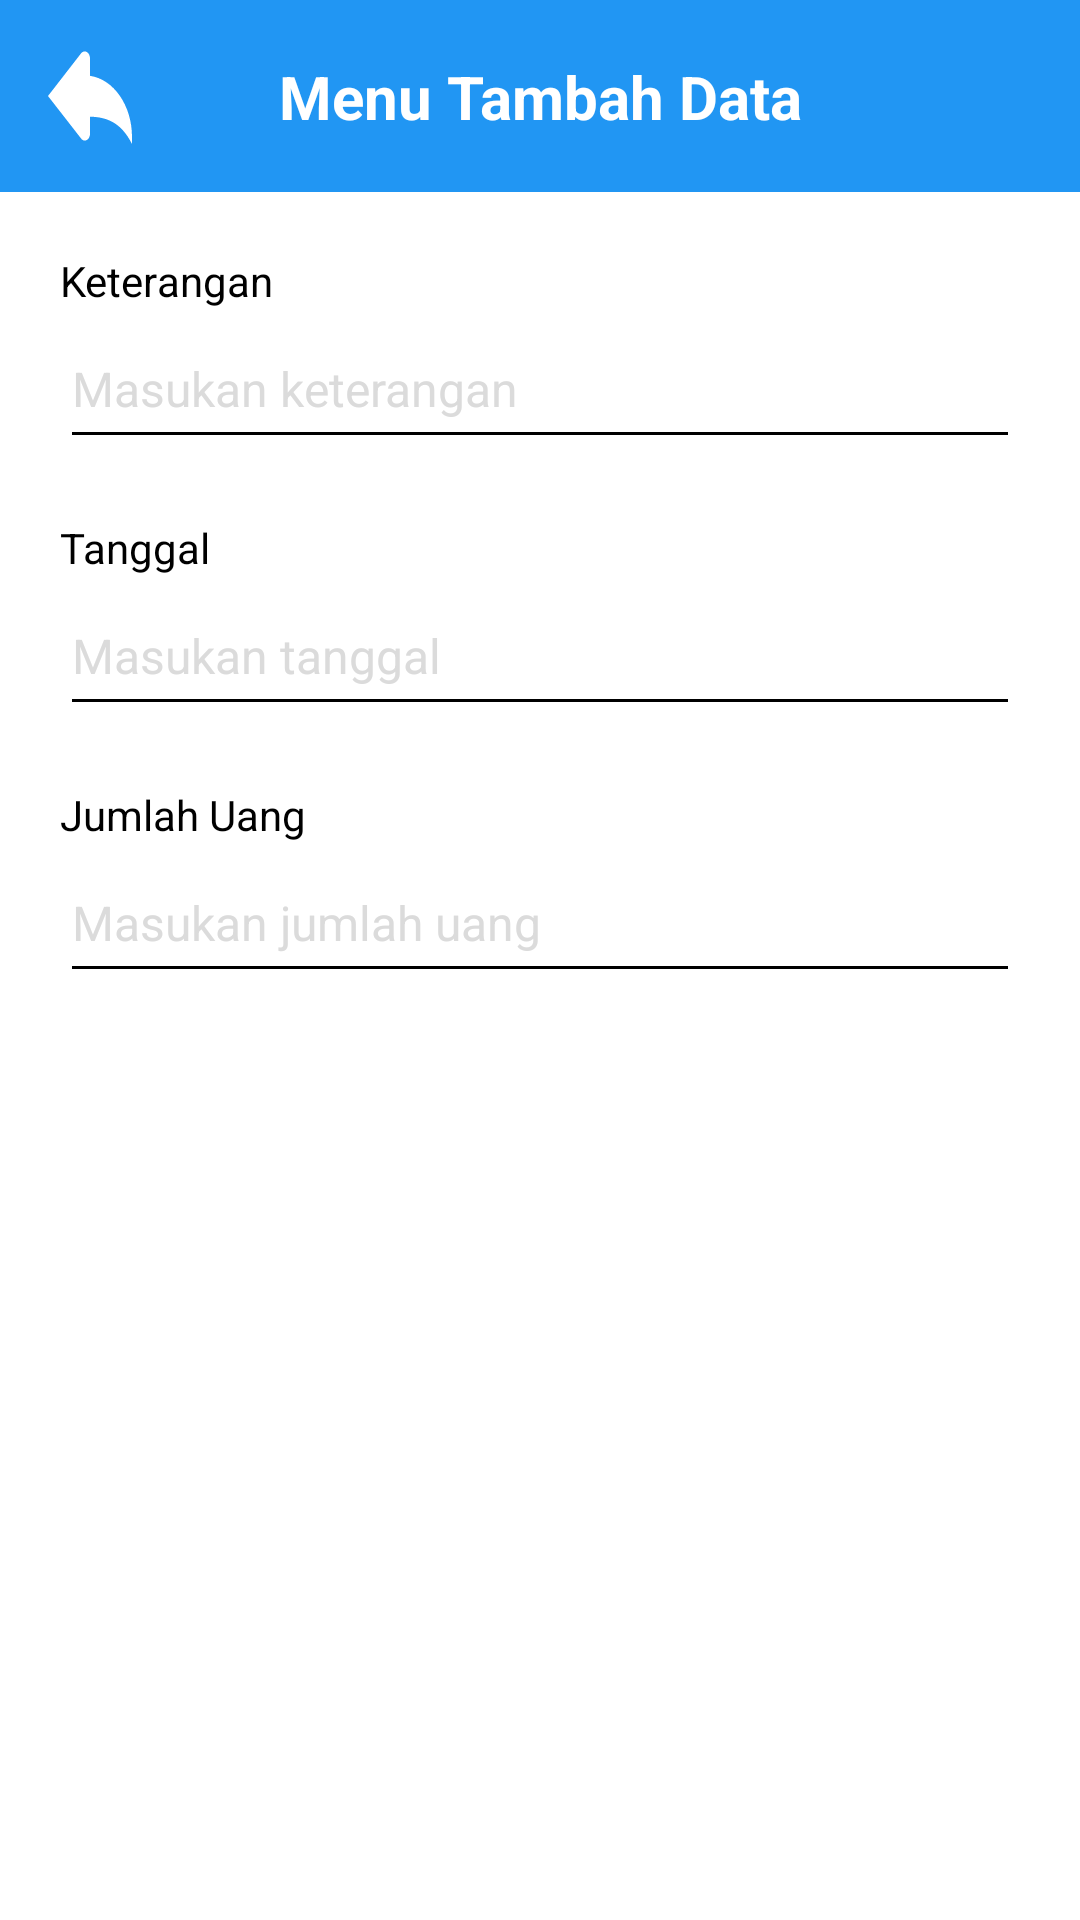

Screen size 1080 x 1920. Icon name, then its center in pixels as (x=x, y=y):
iconback: (x=90, y=97)
